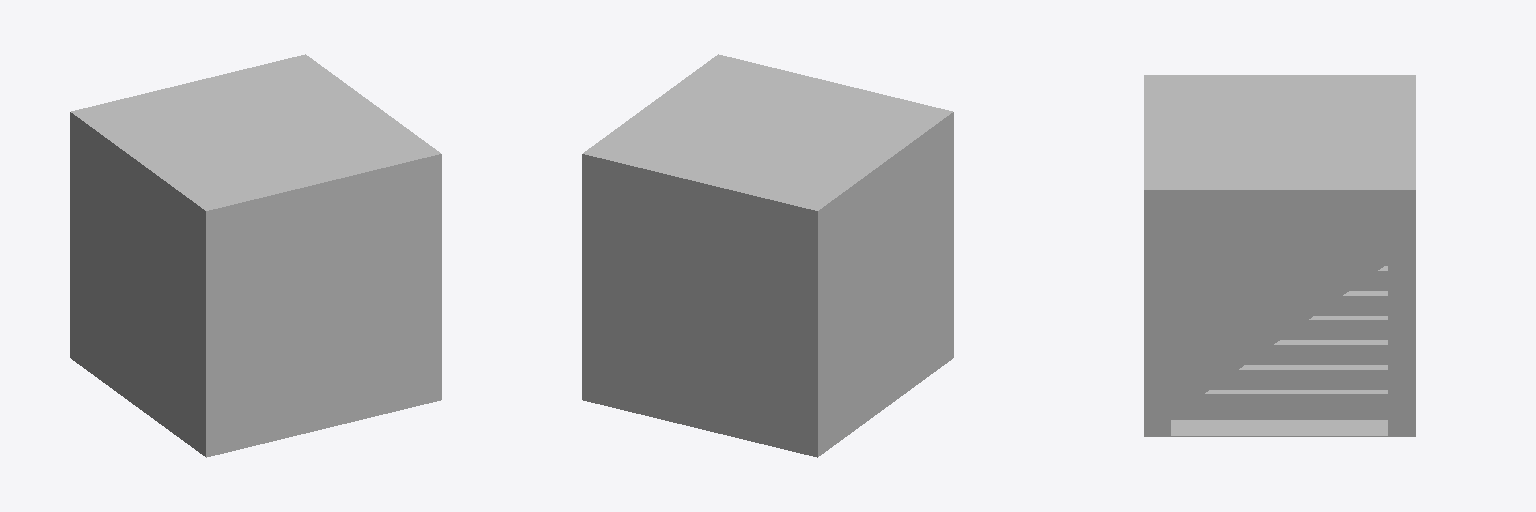
The model's file is garage.obj.
3 renders of one model, left to right at view 1: azimuth 30°, elevation 25°; view 2: azimuth 150°, elevation 25°; view 3: azimuth 270°, elevation 25°, orthographic.
Parts seen in each view (by area): view 1: Cube.004_Cube.007; view 2: Cube.004_Cube.007; view 3: Cube.004_Cube.007.
Boxes of the visible parts, box(x1,y1,x2,y2) form: Cube.004_Cube.007: box(70, 54, 441, 457); Cube.004_Cube.007: box(582, 54, 953, 457); Cube.004_Cube.007: box(1144, 75, 1415, 436).
Bounding box in the file's own units: 2 × 2 × 2.